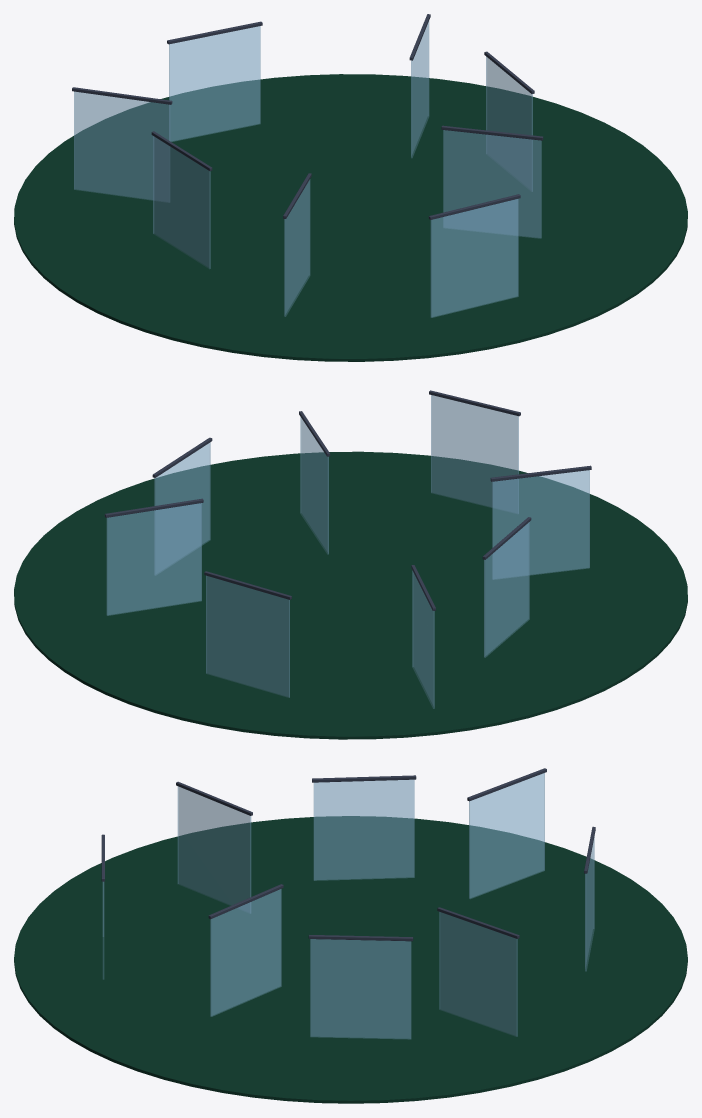
File: backdrop_09.glb
3 renders of one model, top to bottom at view 1: azimuth 30°, elevation 25°; view 2: azimuth 150°, elevation 25°; view 3: azimuth 270°, elevation 25°, orthographic.
Parts seen in each view (by area): view 1: backdrop_09; view 2: backdrop_09; view 3: backdrop_09.
Part boxes in pixels (left/top/right/bottom): backdrop_09: left=14, top=14, right=687, bottom=361; backdrop_09: left=14, top=390, right=687, bottom=739; backdrop_09: left=14, top=768, right=687, bottom=1103.
Bounding box in the file's own units: 80 × 14.4 × 80.
